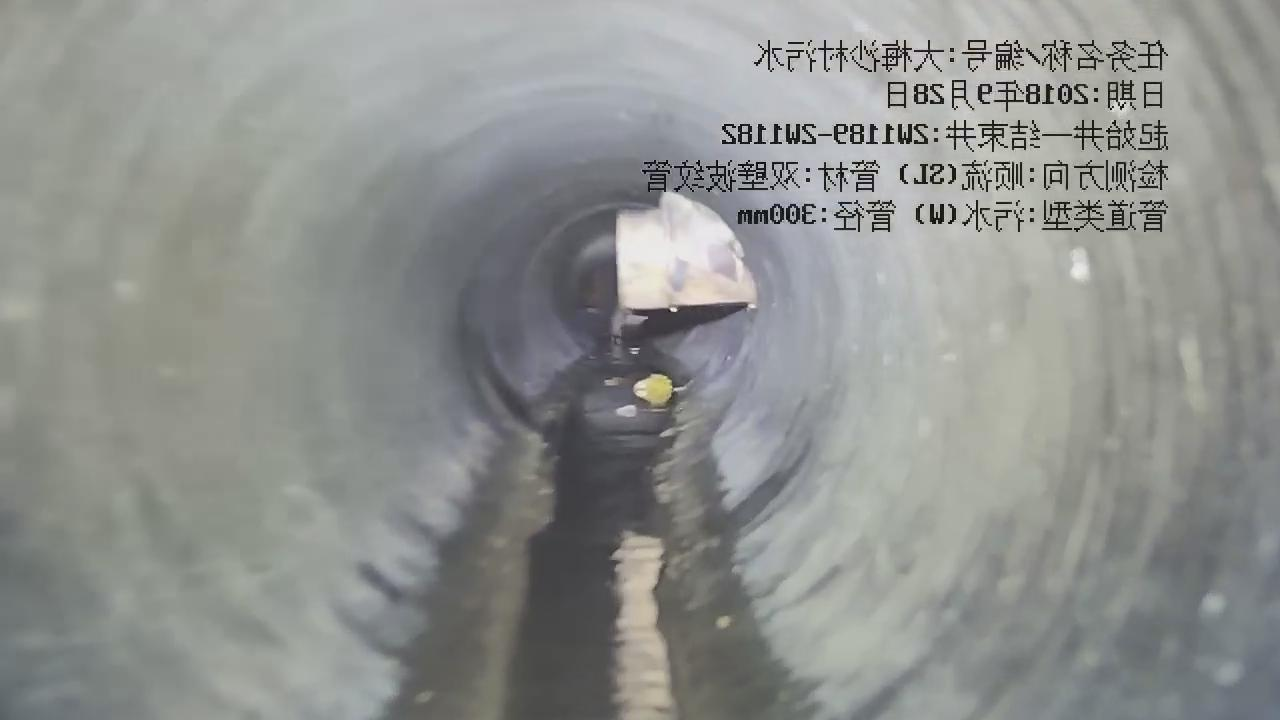ZGAJ: (616, 192, 758, 310)
